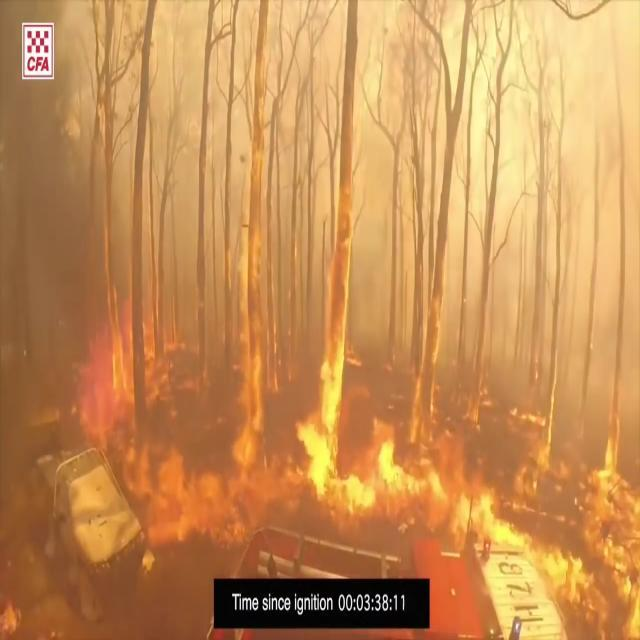Fire: (278, 286, 640, 632), (120, 418, 281, 576), (98, 211, 170, 418), (228, 158, 280, 372)
